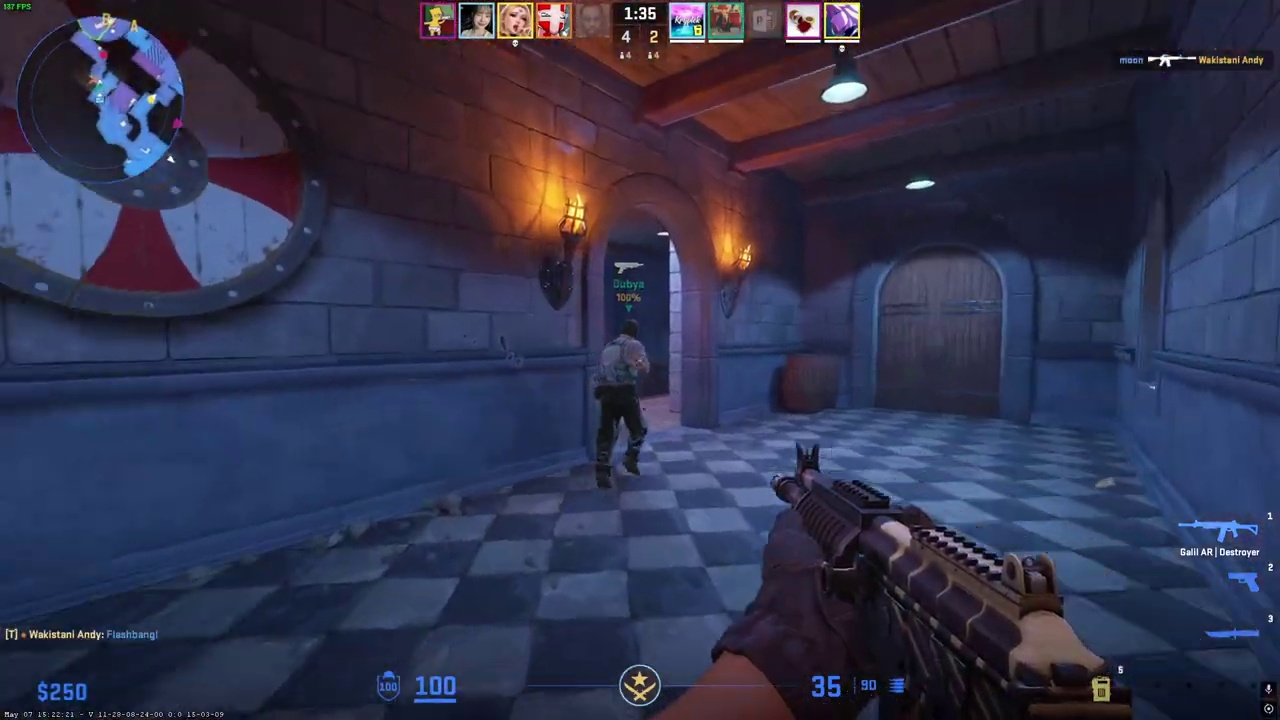Terrorist: (594, 320, 651, 489)
